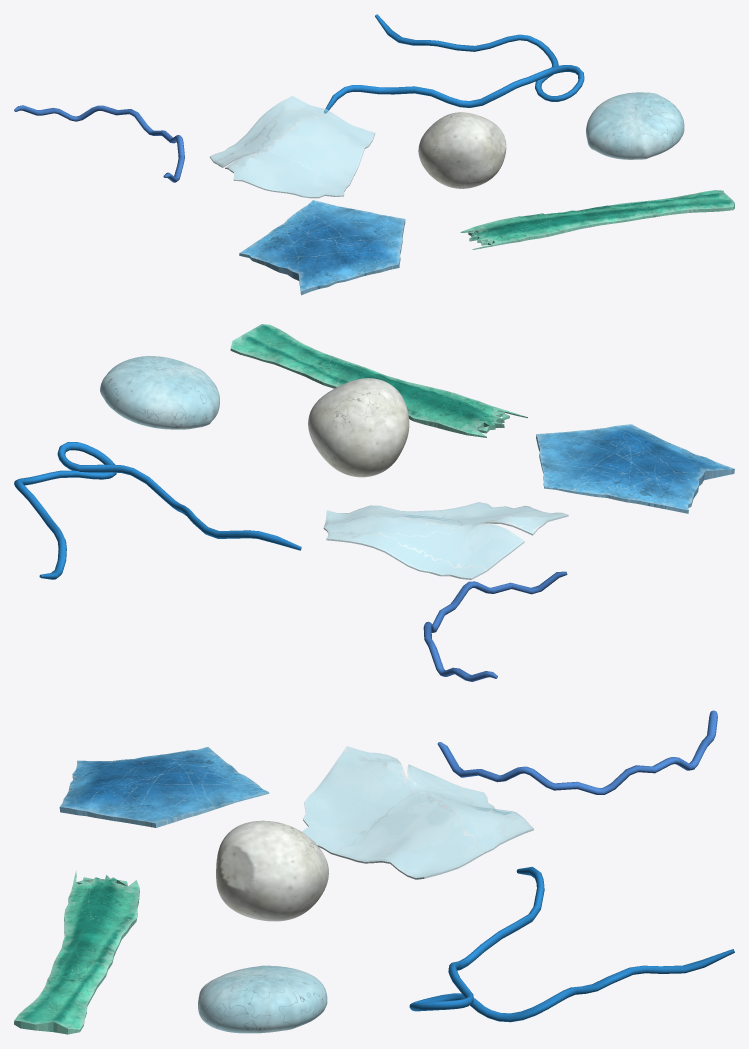
The model's file is semua.glb.
The picture shows the model from 3 angles, top to bottom: view 1: azimuth 30°, elevation 25°; view 2: azimuth 150°, elevation 25°; view 3: azimuth 270°, elevation 25°; orthographic projection. The views are drawn at different scales.
Parts seen in each view (by area): view 1: film_5, fragmen_1, fragmen_2, pelet_4, pelet_3, serat_6, serat_7; view 2: fragmen_1, film_5, fragmen_2, pelet_3, pelet_4, serat_6, serat_7; view 3: film_5, fragmen_1, fragmen_2, pelet_3, pelet_4, serat_6, serat_7.
Part boxes in pixels (left/top/right/bottom): film_5: left=210, top=95, right=375, bottom=198; fragmen_1: left=239, top=200, right=405, bottom=295; fragmen_2: left=460, top=190, right=734, bottom=249; pelet_4: left=586, top=92, right=684, bottom=159; pelet_3: left=418, top=112, right=506, bottom=188; serat_6: left=324, top=14, right=584, bottom=113; serat_7: left=14, top=105, right=184, bottom=182; fragmen_1: left=536, top=424, right=734, bottom=513; film_5: left=323, top=502, right=568, bottom=579; fragmen_2: left=230, top=324, right=527, bottom=437; pelet_3: left=308, top=378, right=409, bottom=477; pelet_4: left=100, top=356, right=219, bottom=429; serat_6: left=14, top=442, right=301, bottom=579; serat_7: left=423, top=571, right=567, bottom=681; film_5: left=302, top=746, right=533, bottom=879; fragmen_1: left=59, top=747, right=269, bottom=827; fragmen_2: left=14, top=870, right=139, bottom=1034; pelet_3: left=216, top=820, right=328, bottom=921; pelet_4: left=198, top=965, right=327, bottom=1033; serat_6: left=409, top=866, right=734, bottom=1022; serat_7: left=437, top=710, right=717, bottom=794.
Size of the model in its own units: 0.38 by 0.0513 by 0.3666.
Materials: 7 (7 with a texture image).
